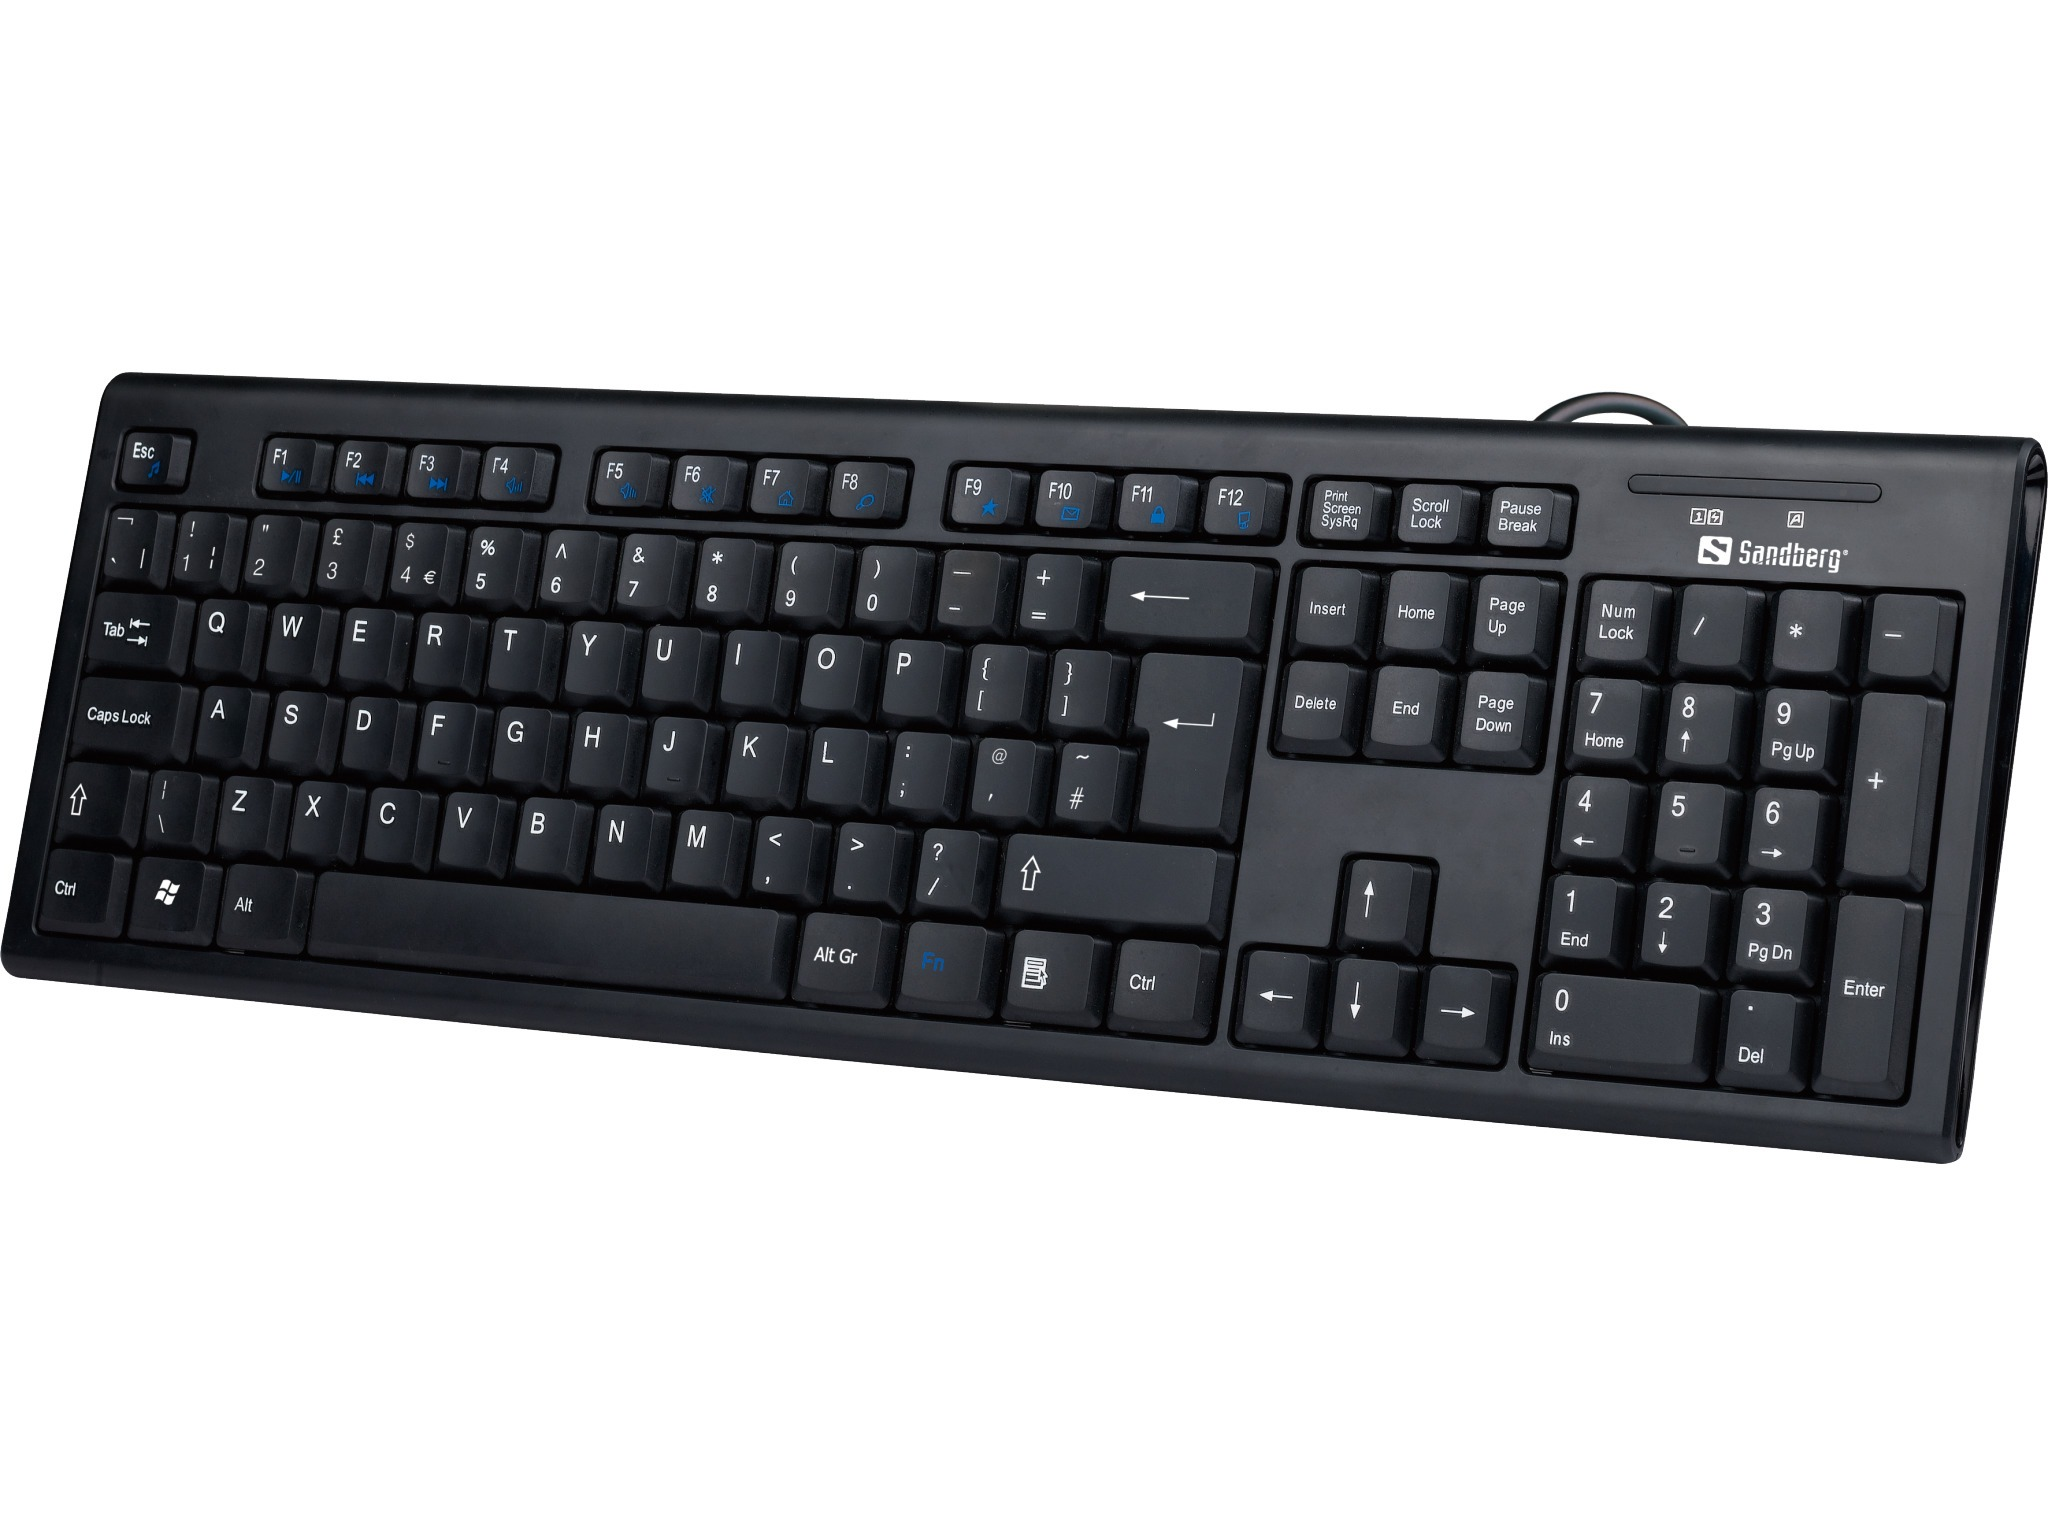keyboard: (0, 353, 2048, 1170)
